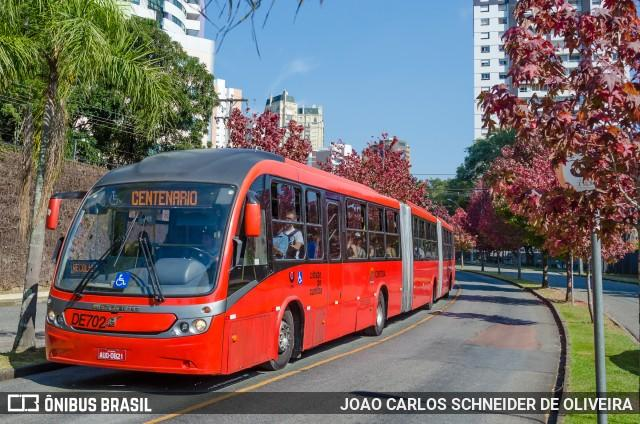CENTENARIO: (126, 188, 202, 209)
